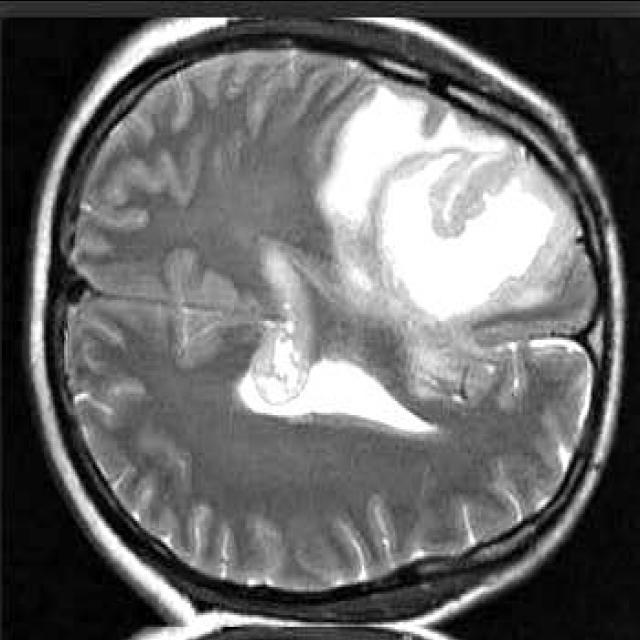tumor: (318, 82, 583, 329)
